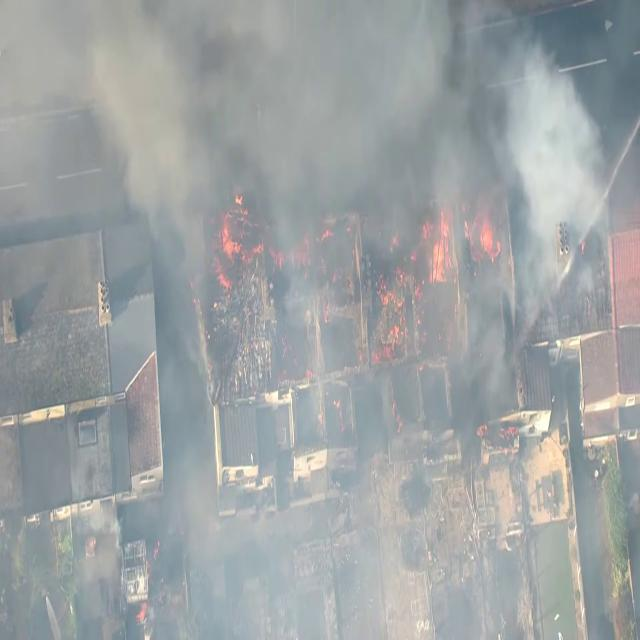Fire: (418, 231, 456, 306), (212, 227, 246, 270)
Smoke: (121, 0, 336, 193), (234, 0, 439, 181), (502, 44, 602, 231)
